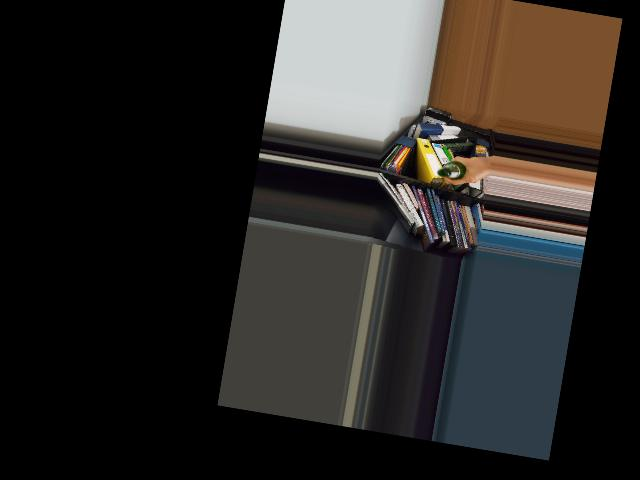beer: (437, 158, 467, 180)
